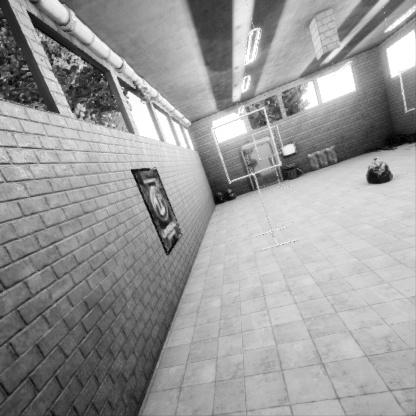gate: (211, 234, 284, 311), (251, 256, 285, 292), (402, 305, 416, 365)
